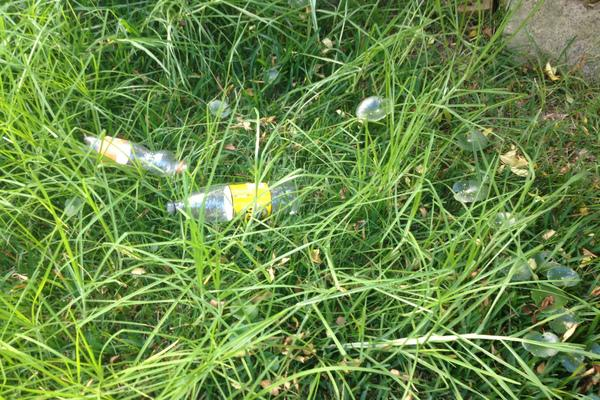Plastic Bottle: (166, 182, 300, 218), (84, 135, 189, 178)
